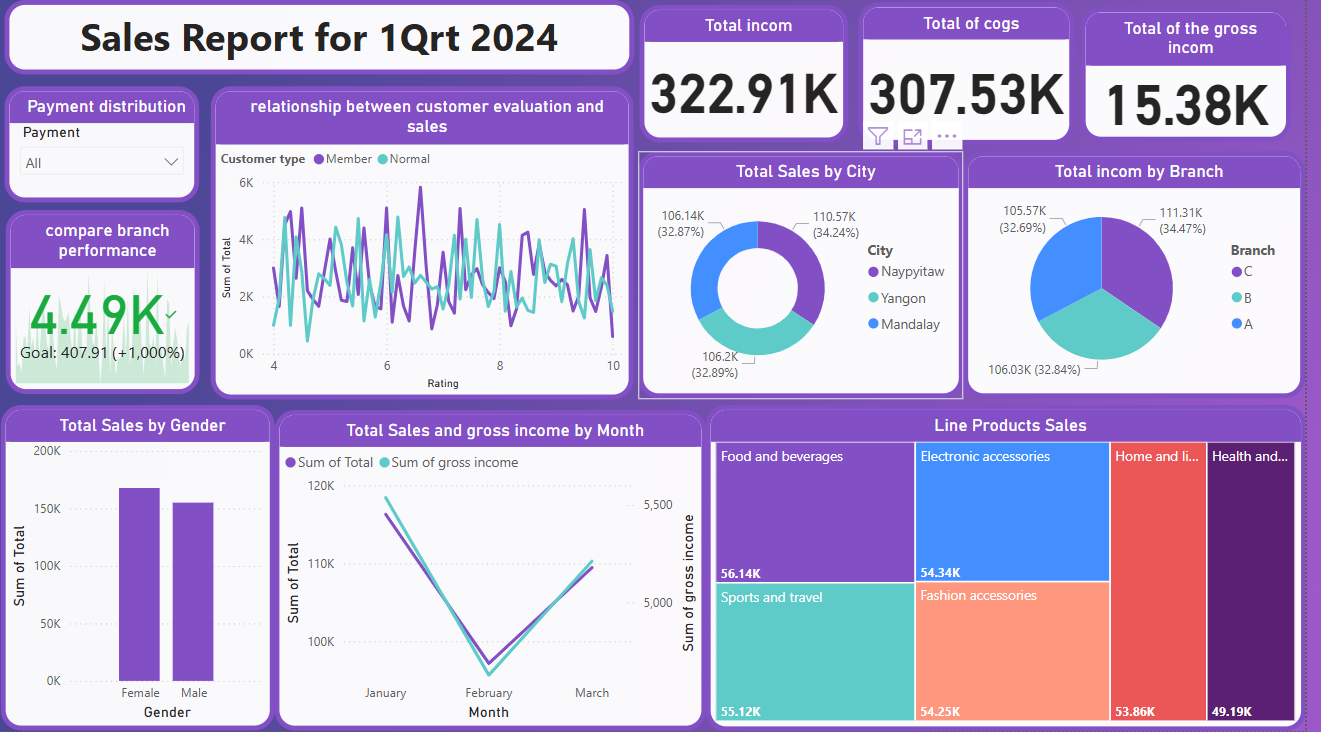

The dashboard page shown, as its layout file describes it:
{"tool":"powerbi","page":{"name":"Page 1","canvas":[1280,720],"ordinal":0},"visuals":[{"type":"card","title":"Total of the gross incom","fields":{"Values":["Sum(supermarket_sales.gross income)"]},"box":[1060.2,12.2,205.4,130.8],"z":0},{"type":"card","title":"Total incom","fields":{"Values":["Sum(supermarket_sales.Total)"]},"box":[628.5,9.8,204.2,134.5],"z":1000},{"type":"card","title":"Total of cogs","fields":{"Values":["Sum(supermarket_sales.cogs)"]},"box":[842.5,7.3,211.6,139.4],"z":2000},{"type":"pieChart","title":"Total incom by Branch","fields":{"Category":["supermarket_sales.Branch"],"Y":["Sum(supermarket_sales.Total)"]},"box":[945.7,153.1,334.6,242],"z":3000},{"type":"donutChart","title":"Total Sales by City","fields":{"Category":["supermarket_sales.City"],"Y":["Sum(supermarket_sales.Total)"]},"box":[627.2,153.1,318.5,242],"z":4000},{"type":"treemap","title":"Line Products Sales","fields":{"Group":["supermarket_sales.Product line"],"Values":["Sum(supermarket_sales.Total)"]},"box":[693.3,401.1,587,319.2],"z":5000},{"type":"columnChart","title":"Total Sales by Gender","fields":{"Category":["supermarket_sales.Gender"],"Y":["Sum(supermarket_sales.Total)"]},"box":[3.7,401.2,267.9,318.5],"z":6000},{"type":"slicer","title":"Payment distribution","fields":{"Values":["supermarket_sales.Payment"]},"box":[7.4,88.9,190.1,113.6],"z":7000},{"type":"lineChart","title":"Total Sales and gross income by Month","fields":{"Category":["supermarket_sales.Date.Variation.Date Hierarchy.Month"],"Y":["Sum(supermarket_sales.Total)"],"Y2":["Sum(supermarket_sales.gross income)"]},"box":[271.6,406.2,422.2,313.6],"z":8000},{"type":"lineChart","title":"relationship between customer evaluation and sales","fields":{"Category":["supermarket_sales.Rating"],"Series":["supermarket_sales.Customer type"],"Y":["Sum(supermarket_sales.Total)"]},"box":[208.6,88.9,413.6,306.2],"z":9000},{"type":"textbox","box":[7.4,4.9,616.1,72.8],"z":10000},{"type":"kpi","title":"compare branch performance","fields":{"Indicator":["Sum(supermarket_sales.Total)"],"TrendLine":["supermarket_sales.Date"],"Goal":["Avg(supermarket_sales.Total)"]},"box":[8.6,210.3,189.5,179.8],"z":11000}]}

Visuals, with their boxes in screenshot pixels (x1, y1, x2, y2), scaled from the page's 1280x720 canvas onto the 1321x732 screenshot:
"Total of the gross incom" card: {"left": 1094, "top": 12, "right": 1306, "bottom": 145}
"Total incom" card: {"left": 649, "top": 10, "right": 859, "bottom": 147}
"Total of cogs" card: {"left": 869, "top": 7, "right": 1088, "bottom": 149}
"Total incom by Branch" pieChart: {"left": 976, "top": 156, "right": 1320, "bottom": 402}
"Total Sales by City" donutChart: {"left": 647, "top": 156, "right": 976, "bottom": 402}
"Line Products Sales" treemap: {"left": 716, "top": 408, "right": 1320, "bottom": 731}
"Total Sales by Gender" columnChart: {"left": 4, "top": 408, "right": 280, "bottom": 731}
"Payment distribution" slicer: {"left": 8, "top": 90, "right": 204, "bottom": 206}
"Total Sales and gross income by Month" lineChart: {"left": 280, "top": 413, "right": 716, "bottom": 731}
"relationship between customer evaluation and sales" lineChart: {"left": 215, "top": 90, "right": 642, "bottom": 402}
textbox: {"left": 8, "top": 5, "right": 643, "bottom": 79}
"compare branch performance" kpi: {"left": 9, "top": 214, "right": 204, "bottom": 397}
